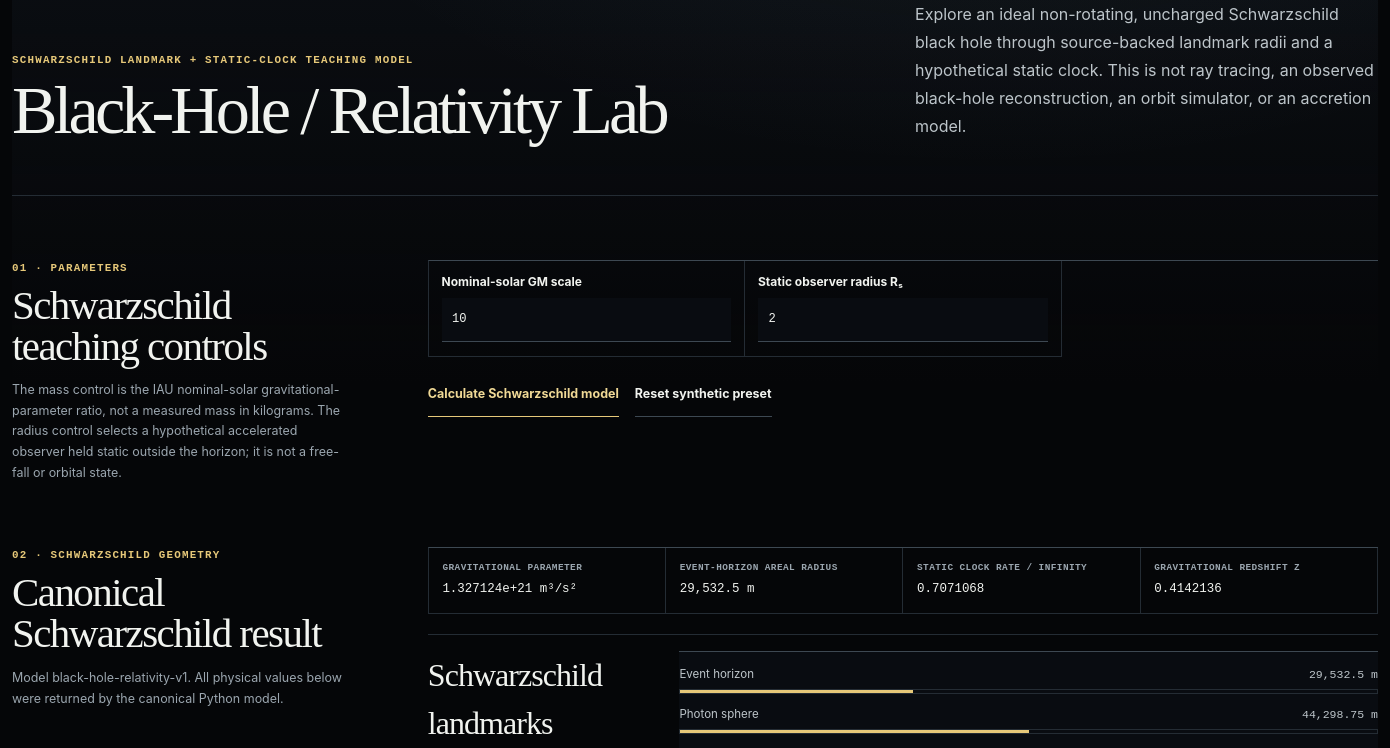
it: BlackHoleRelativityView › retains the last canonical result after a 422
Replace the text in the number field named "Static observer radius in Schwarzschild radii" with "4": (903, 320) top-left (758, 298), bottom-right (1048, 342)
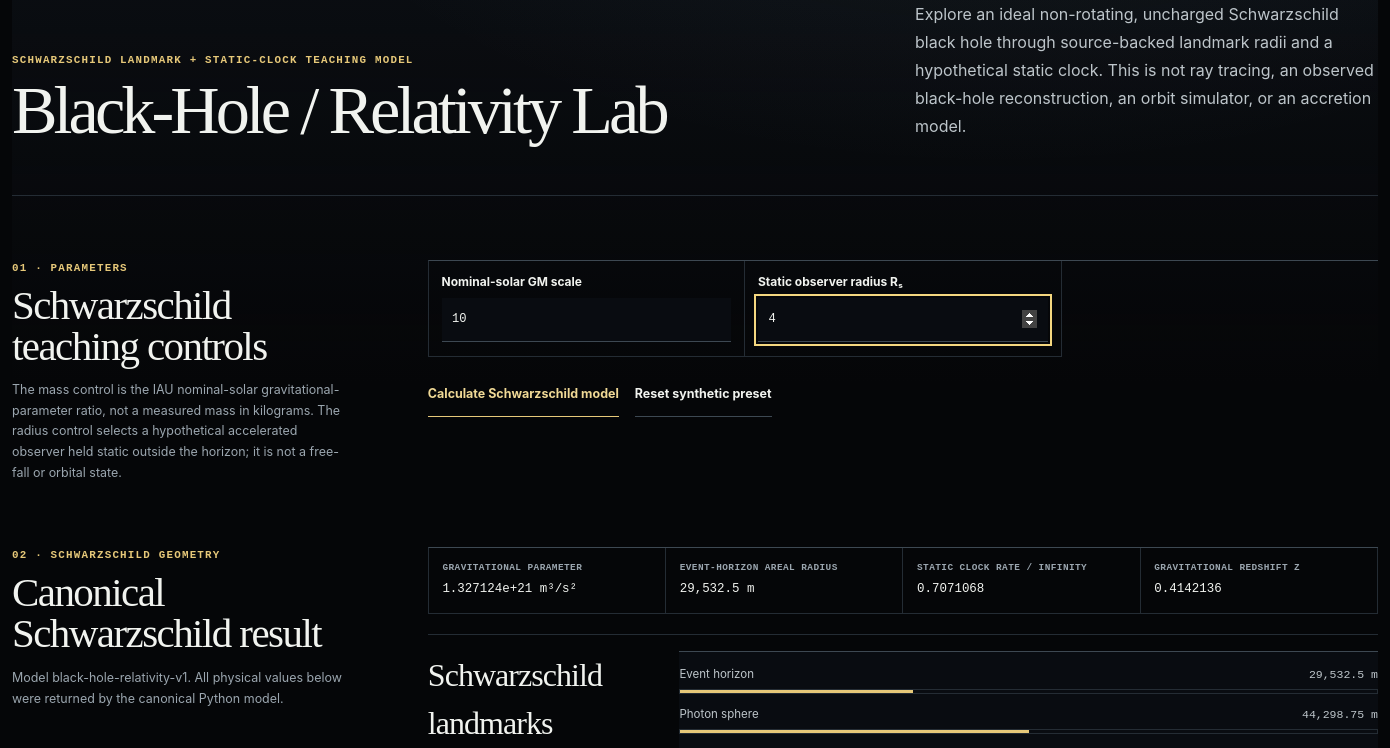
Click the button "Calculate Schwarzschild model": (523, 395) top-left (428, 373), bottom-right (619, 417)
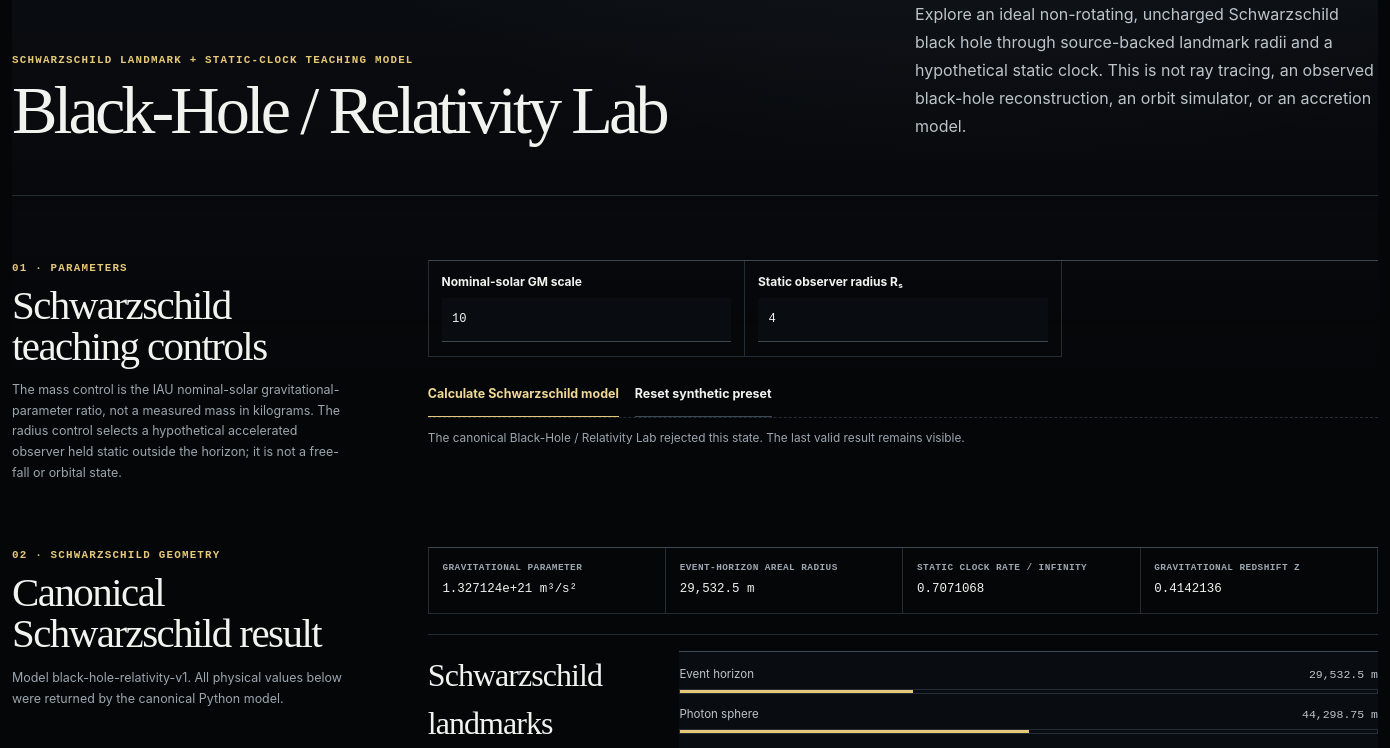
Check: the text "0.4142136" is shown, box top-left (1154, 582), bottom-right (1222, 596)
Check: the text "canonical Black-Hole / Relativity Lab rejected this state" is shown, box top-left (428, 431), bottom-right (965, 445)
